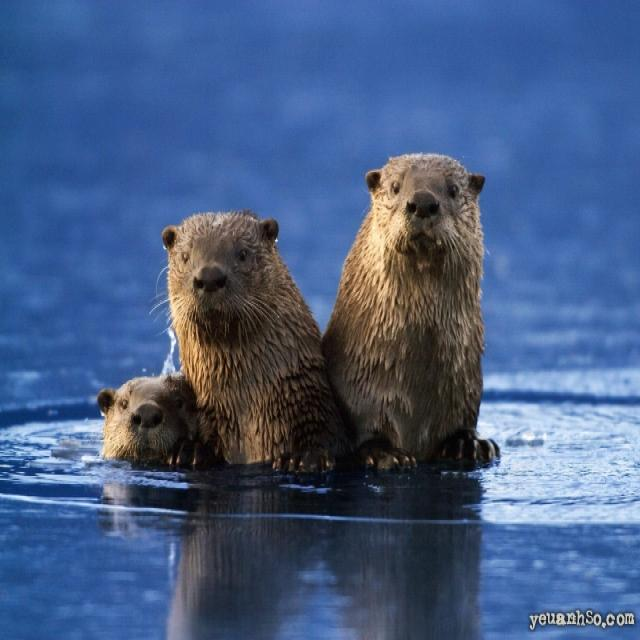otter: (325, 154, 500, 472), (165, 211, 326, 469), (101, 370, 196, 463)
